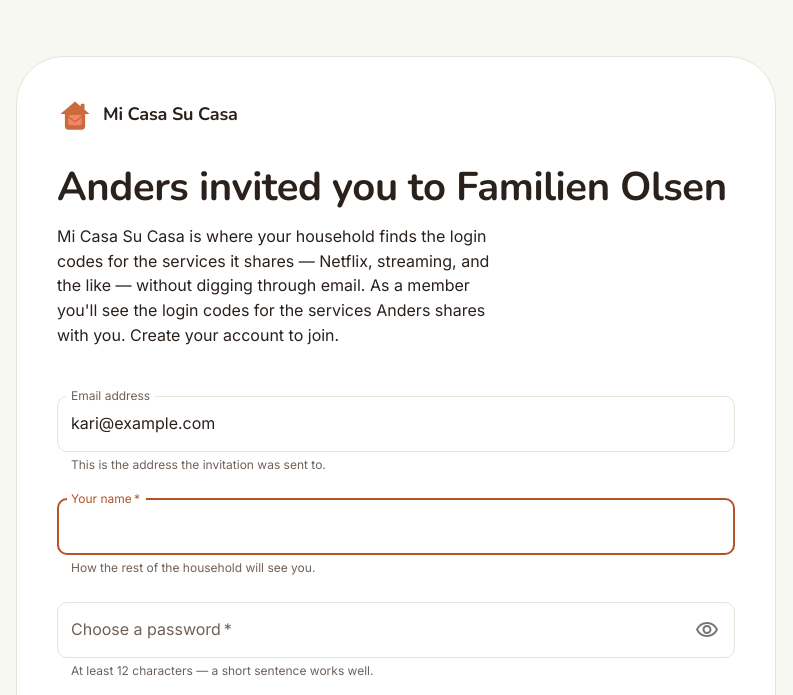
InvitePage › keeps an unrelated 409 on the form, however it is worded
Type "Kari Olsen" into the field labelled "Your name *".
click(396, 527); type("Kari Olsen")  # box [57,499,735,555]
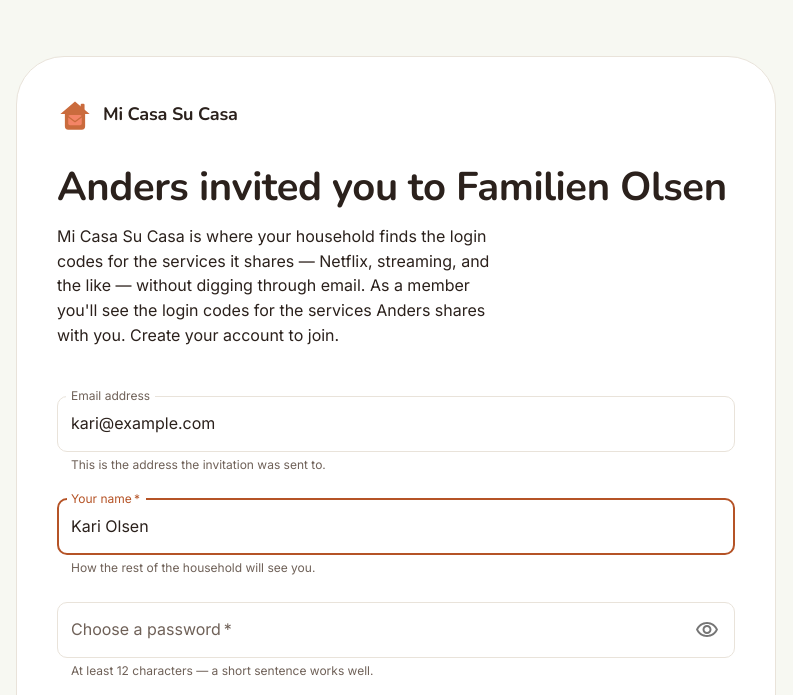
Type "correct-horse-battery" into the password field labelled "Choose a password *".
click(370, 630); type("correct-horse-battery")  # box [57,602,682,658]
(page scrolled)
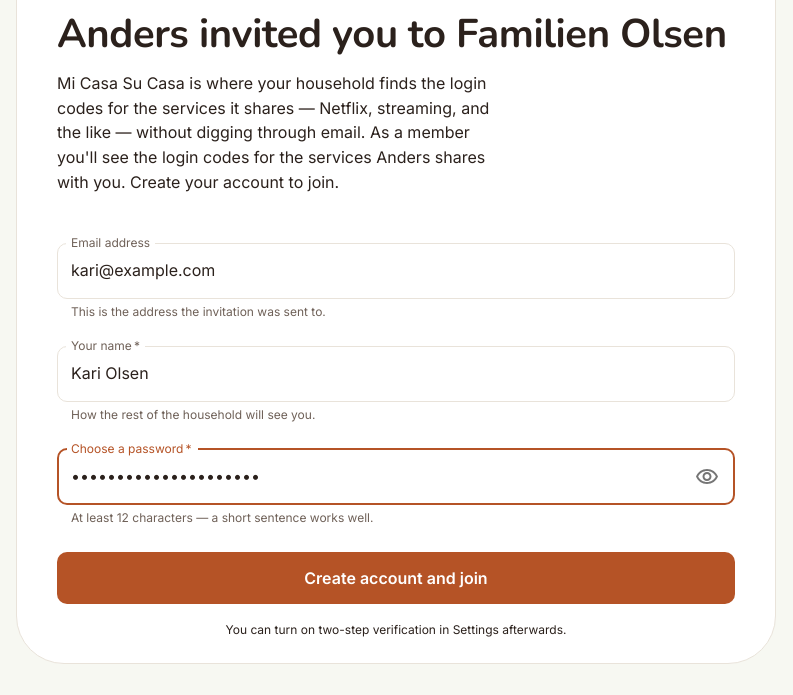
Click the button "Create account and join".
click(396, 578)  # box [57,552,735,604]
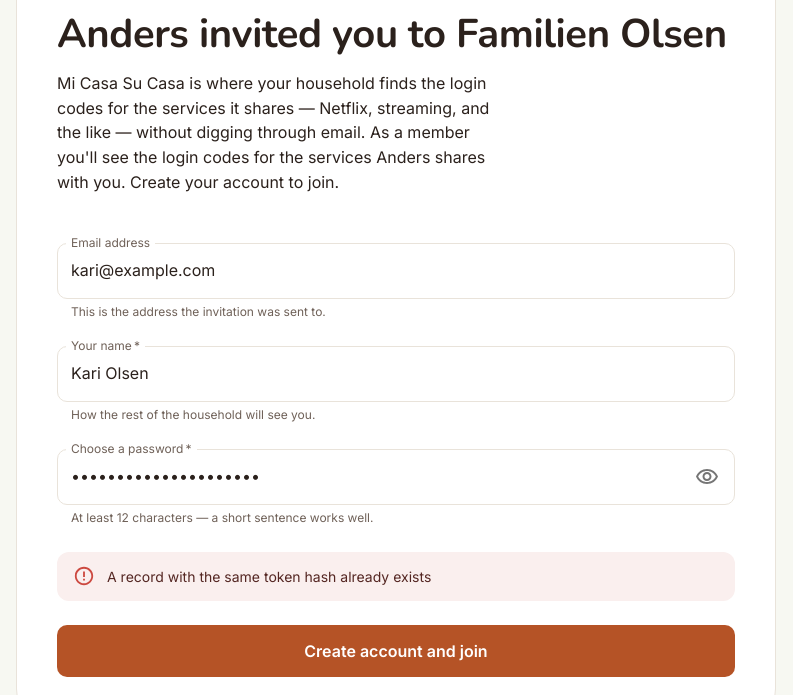
Expected: the button "Create account and join" is shown, [57,624,735,676]
Expected: the text "A record with the same token hash already exists" is shown, [107,568,431,584]
